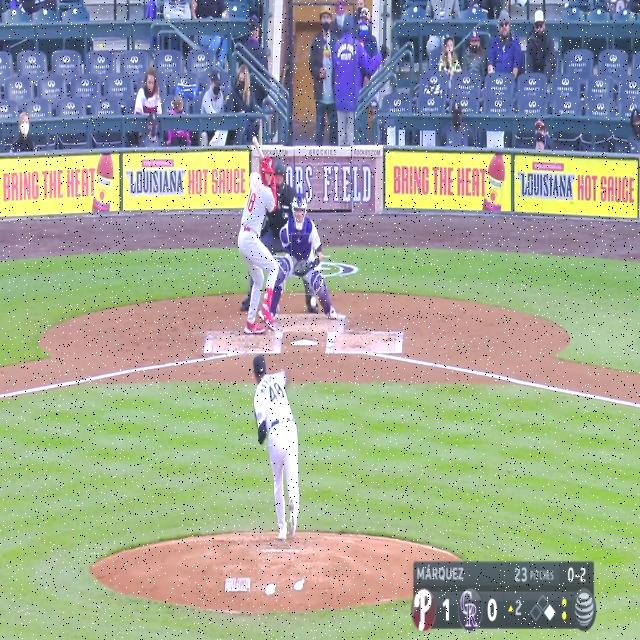baseball: (310, 295, 317, 309)
